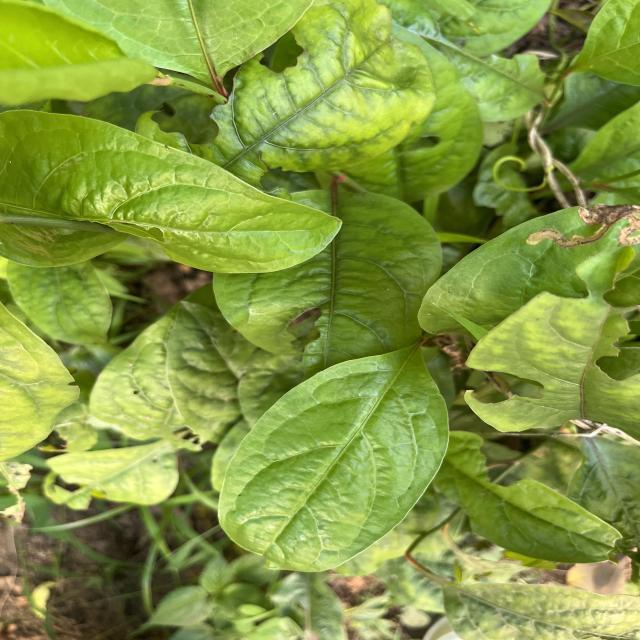Plumbago indica: (212, 349, 456, 576)
